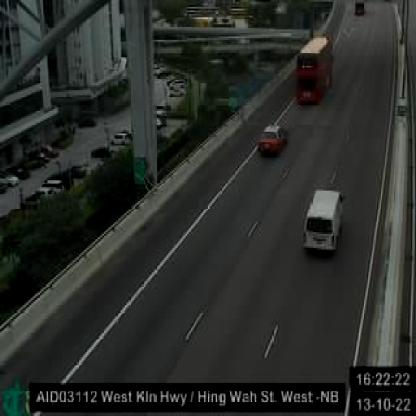Bus: (296, 35, 334, 108)
Car: (302, 187, 345, 254), (257, 123, 288, 159), (353, 1, 366, 17)
